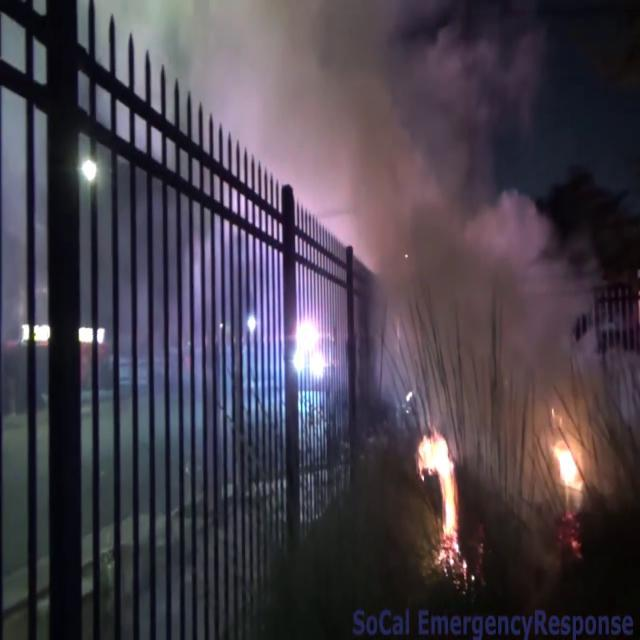Fire: (418, 425, 466, 566), (548, 432, 586, 498)
Smoke: (300, 2, 566, 428), (81, 150, 102, 184)
